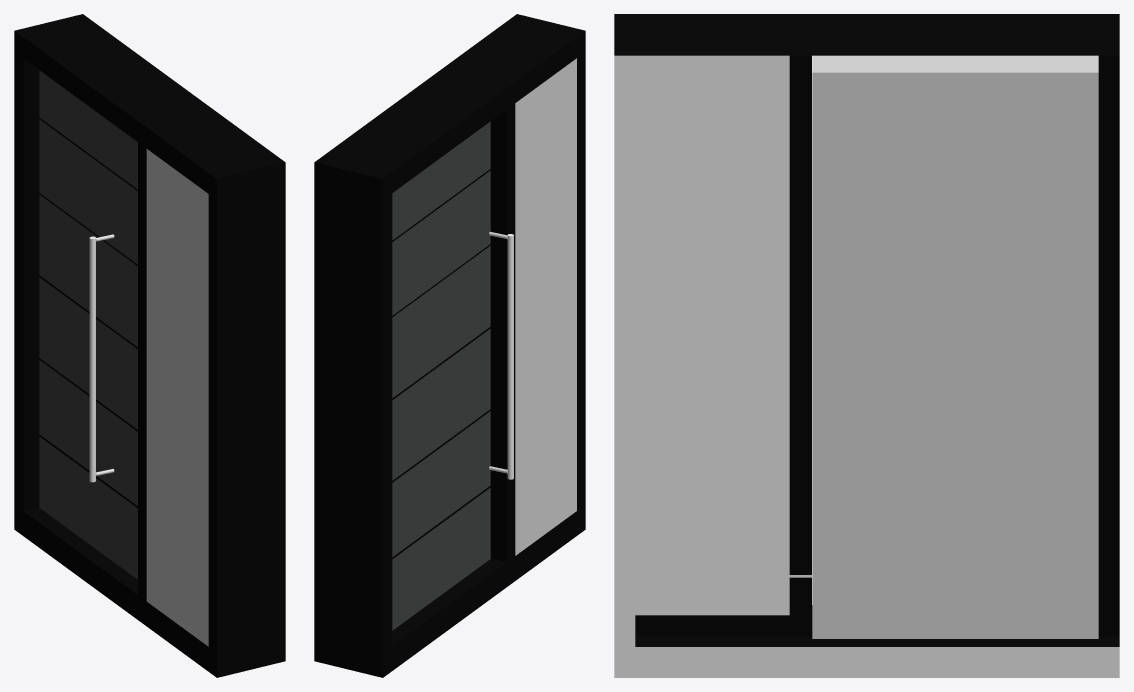
Rendered from ASAS.fbx.
3 renders of one model, left to right at view 1: azimuth 30°, elevation 25°; view 2: azimuth 150°, elevation 25°; view 3: azimuth 270°, elevation 25°, orthographic. The views are drawn at different scales.
Parts seen in each view (by area): view 1: Cube.070, Cube.084, Cylinder; view 2: Cube.070, Cube.084, Cylinder; view 3: Cube.070, Cube.084.
Boxes of the visible parts, <box> form: Cube.070: <box>14,14,285,677</box>; Cube.084: <box>39,70,137,579</box>; Cylinder: <box>89,236,95,482</box>; Cube.070: <box>314,14,585,677</box>; Cube.084: <box>392,121,490,630</box>; Cylinder: <box>507,234,513,479</box>; Cube.070: <box>614,14,1119,677</box>; Cube.084: <box>812,55,1098,638</box>.
Bounding box in the file's own units: 70.28 × 349 × 257.
